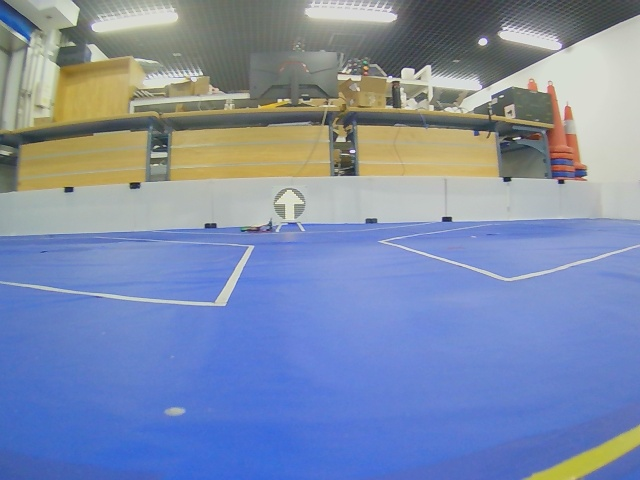straight_yellow: (274, 187, 306, 221)
